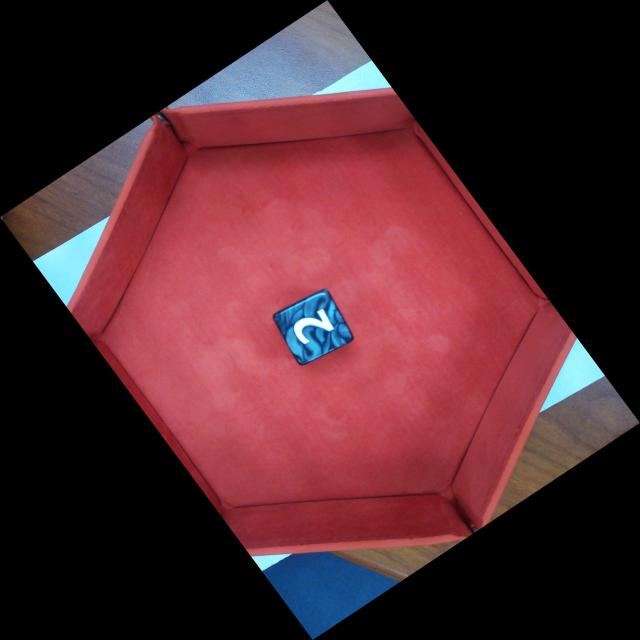dice: (273, 288, 357, 369)
